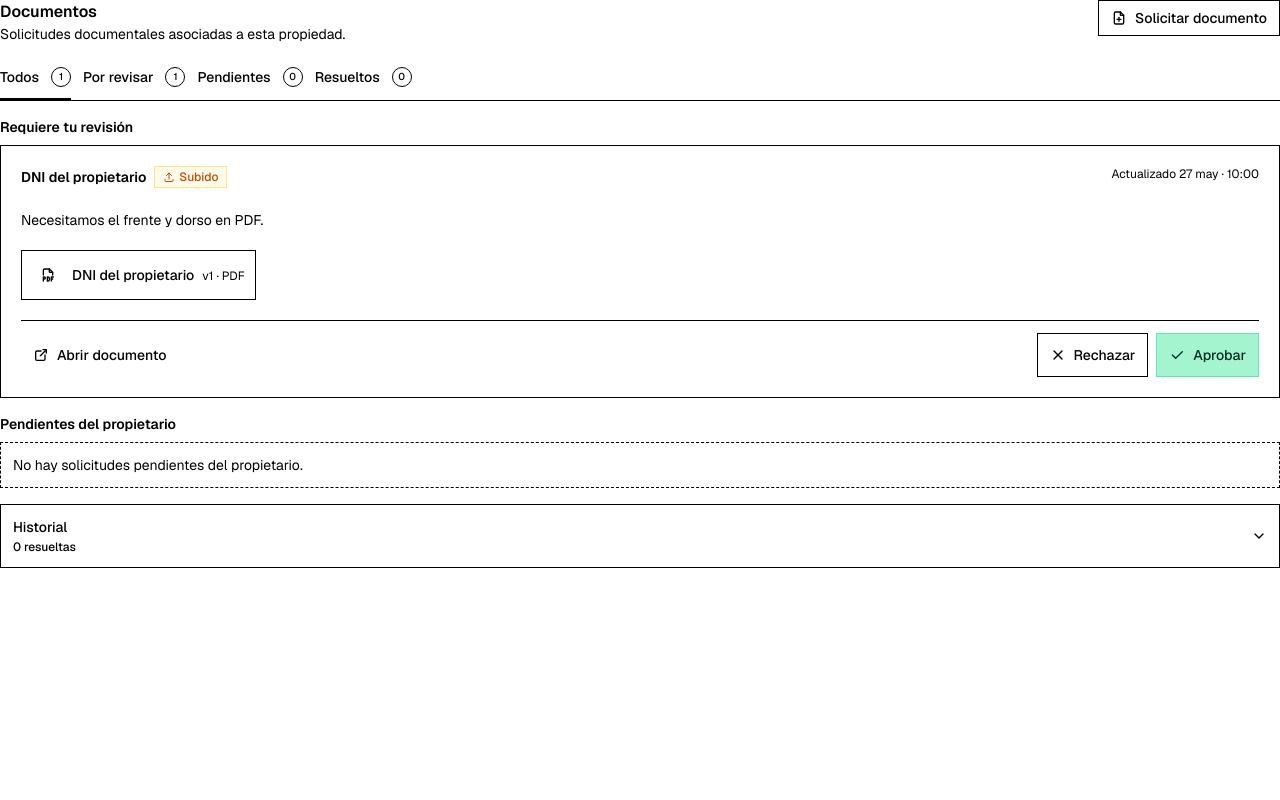
Scenario: PropertyDocumentRequests › requires a non-empty rejection reason before rejecting a request
The width and height of the screenshot is (1280, 800).
Click the button "Rechazar": (1092,355) top-left (1036, 333), bottom-right (1148, 377)
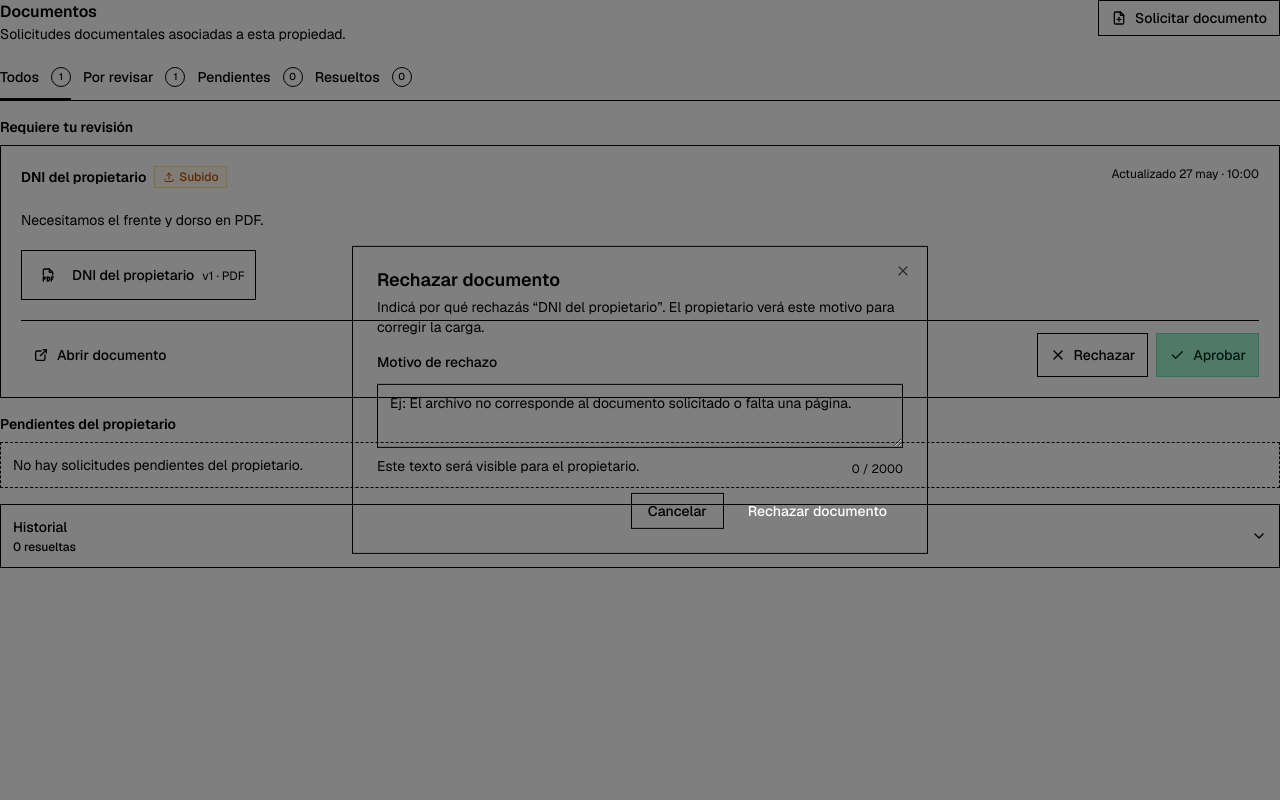
Click the button "Rechazar documento": (817,511) top-left (732, 493), bottom-right (903, 529)
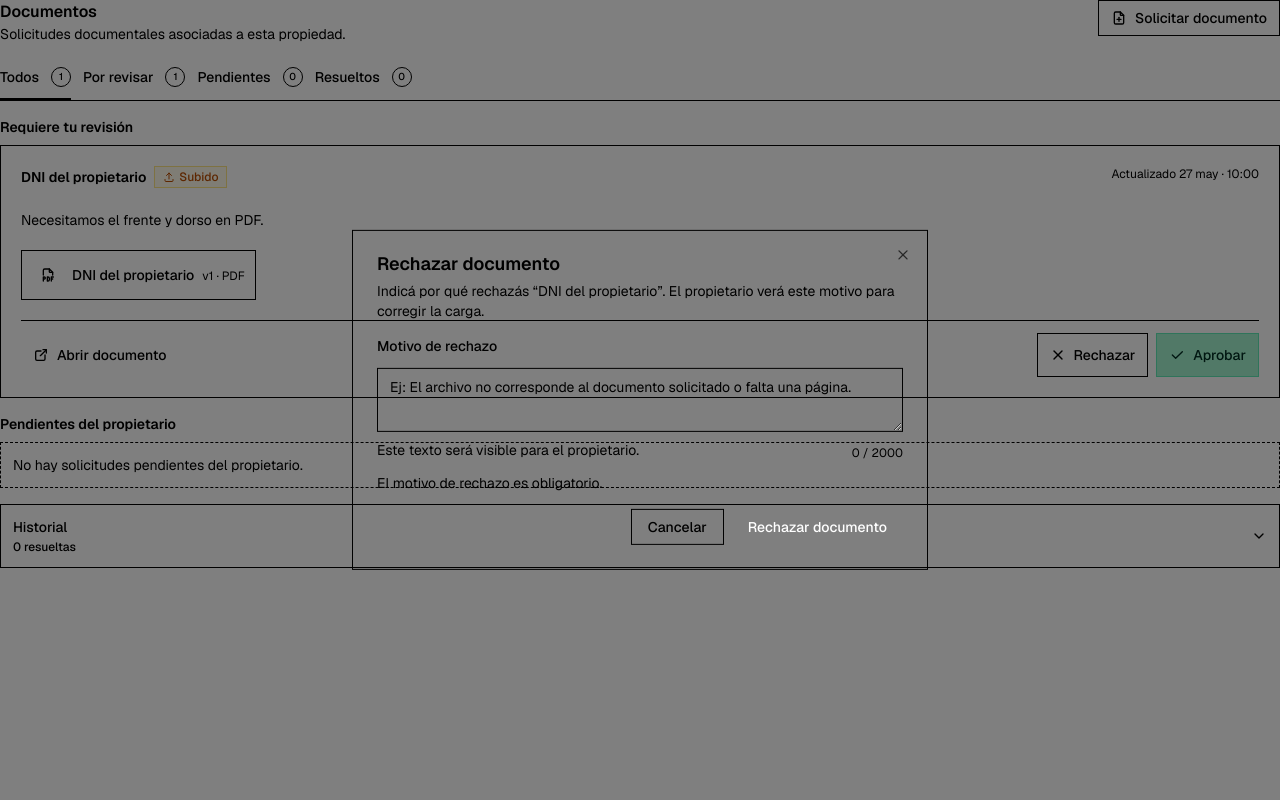
Expected: the text "El motivo de rechazo es obligatorio." is shown, top-left (377, 474), bottom-right (602, 492)
